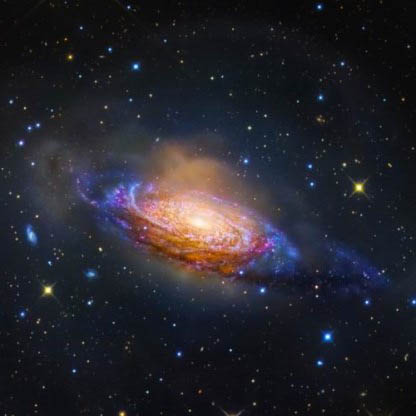NGC 3521: (43, 97, 383, 355)
